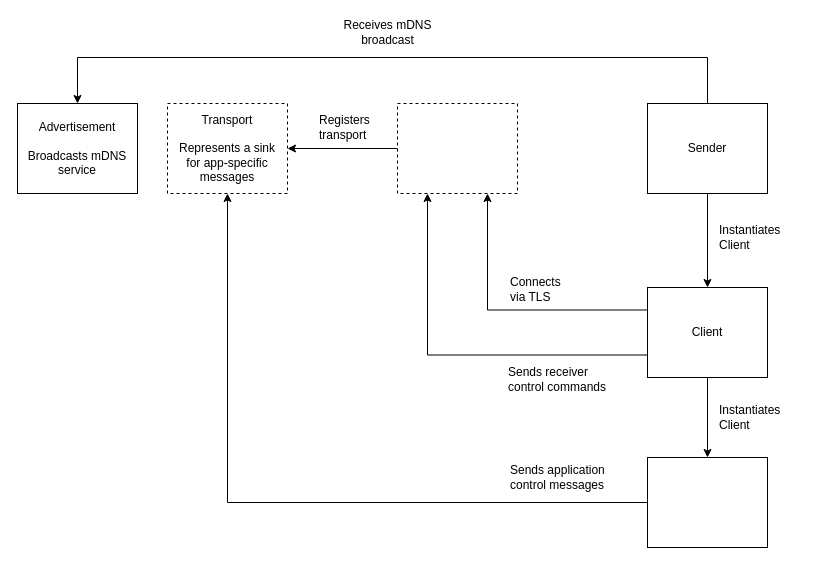
The diagram is 815 pixels wide and 565 high, and some of its shapes have lost their labels. Each missing label, with the centre of its shape:
"Application" goes at [707,502].
"Receiver Manage transports for running apps" goes at [457,148].
